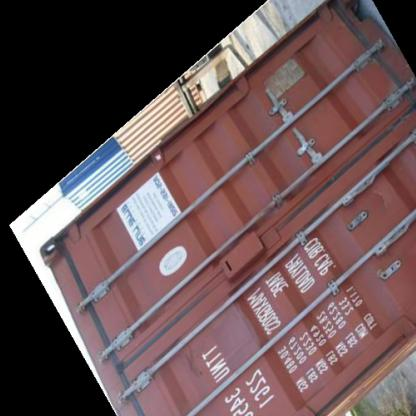Damage: (46, 236, 90, 300), (178, 336, 208, 380), (366, 181, 395, 223)
